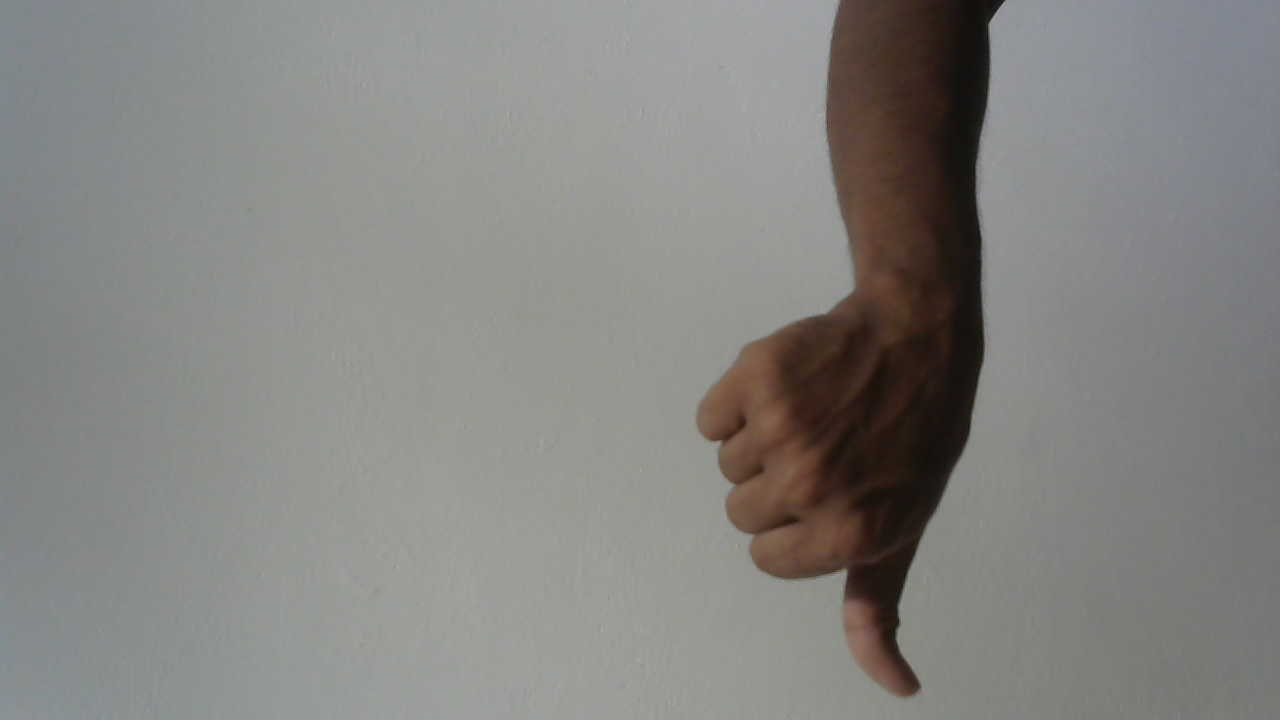thumbsdown: (688, 262, 1010, 719)
